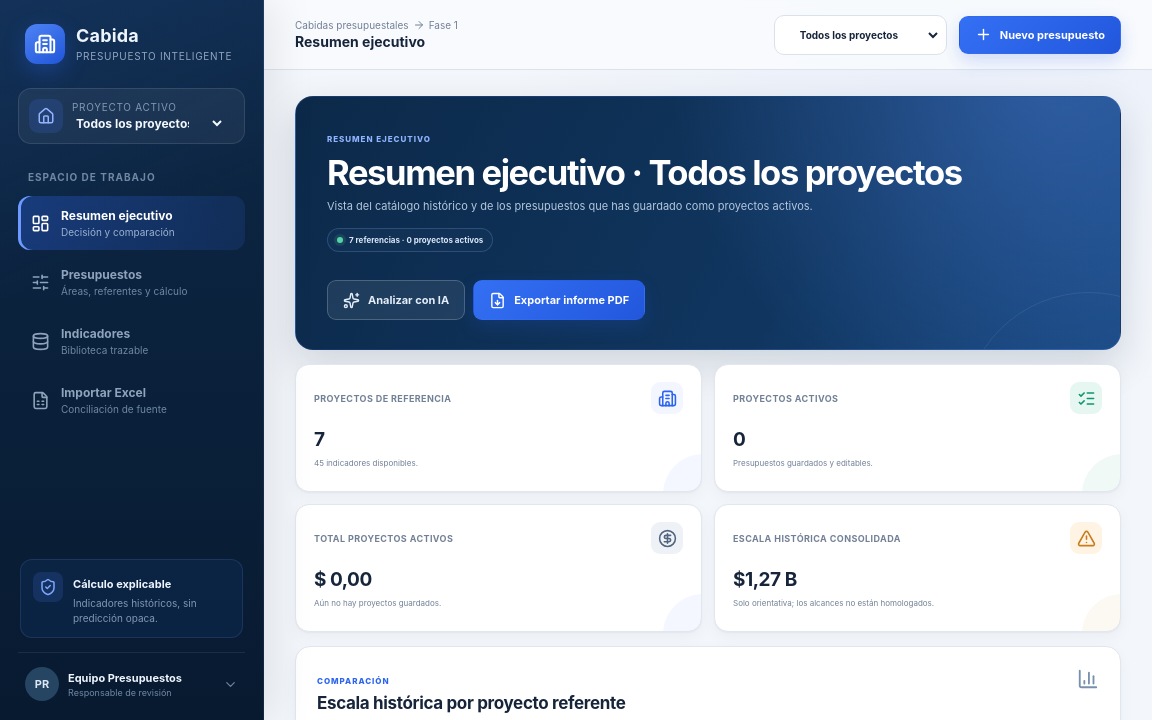
Scenario: App › mantiene independiente el primer presupuesto al crear una segunda pestaña
Expected: the header with class "topbar" is shown, [264, 0, 1152, 70]
Click the button "Nuevo presupuesto".
click(1040, 34)  # box [959, 16, 1121, 54]
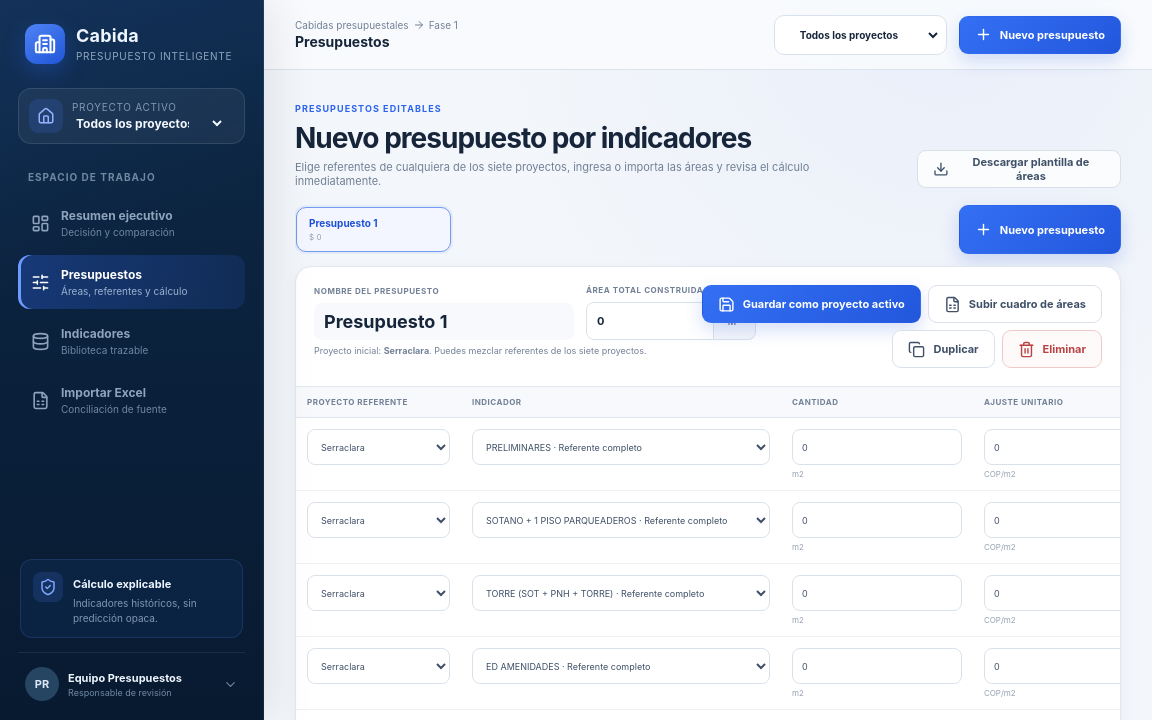
Replace the text in the field labelled "Nombre del presupuesto" with "Torre Norte" at (444, 322), box [314, 303, 574, 340]
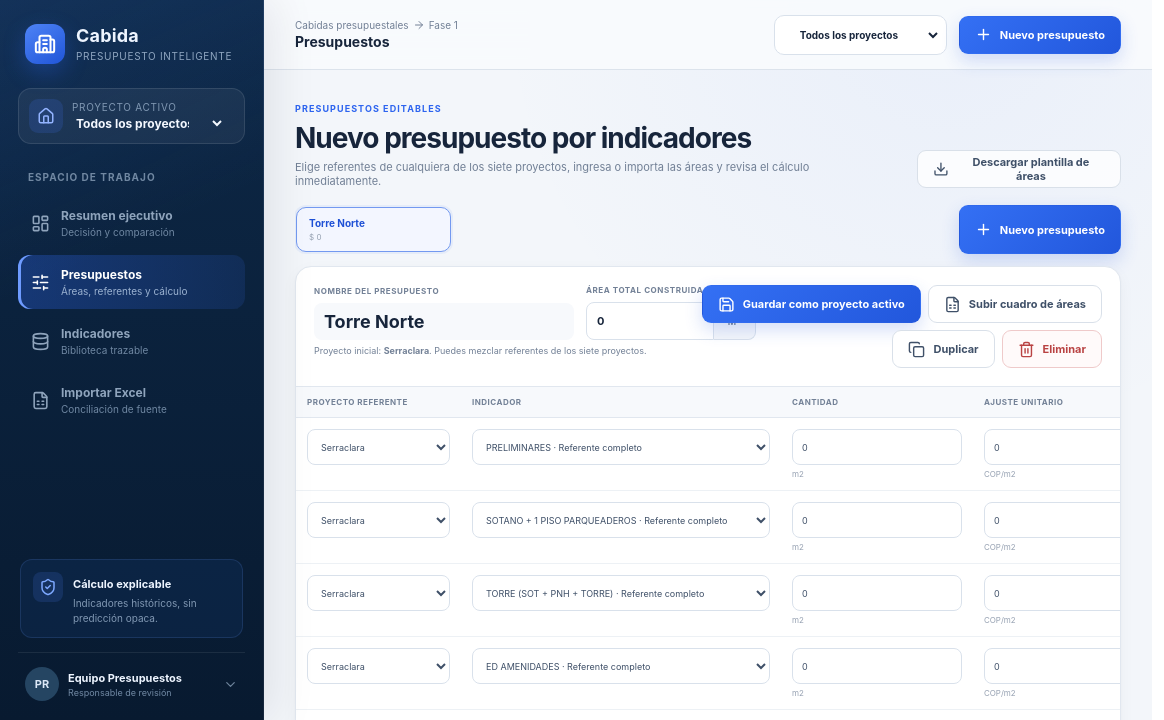
Replace the text in the number field named "Cantidad de la línea 1" with "25" at (877, 447), box [792, 429, 962, 465]
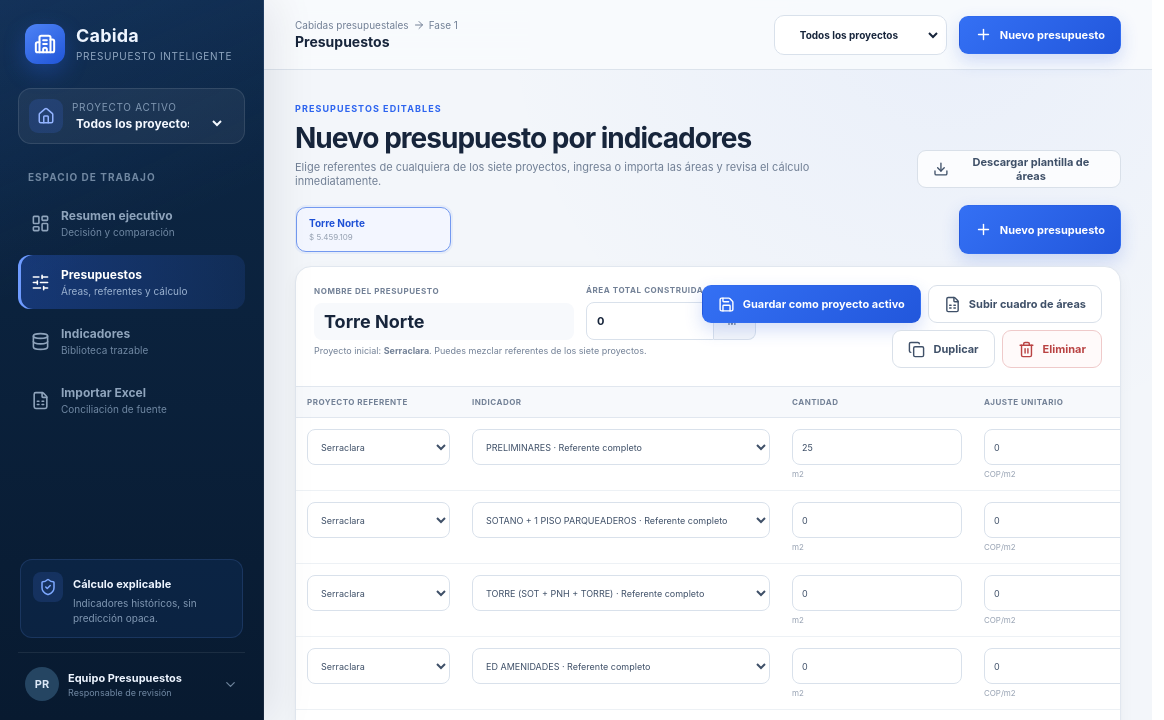
Click the button "Nuevo presupuesto" below "Nuevo presupuesto por indicadores".
click(1040, 230)  # box [959, 205, 1121, 254]
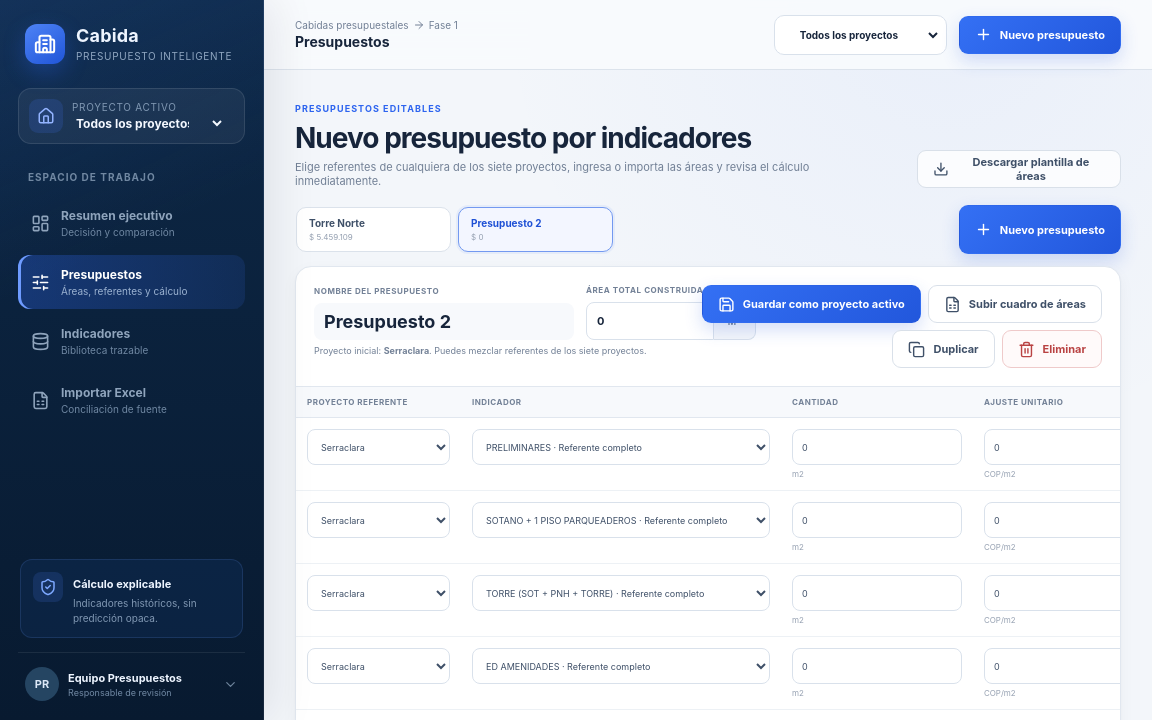
Expected: the number of tabs is 2
Click the tab "Torre Norte $ 5.459.109".
click(374, 230)  # box [296, 207, 451, 252]
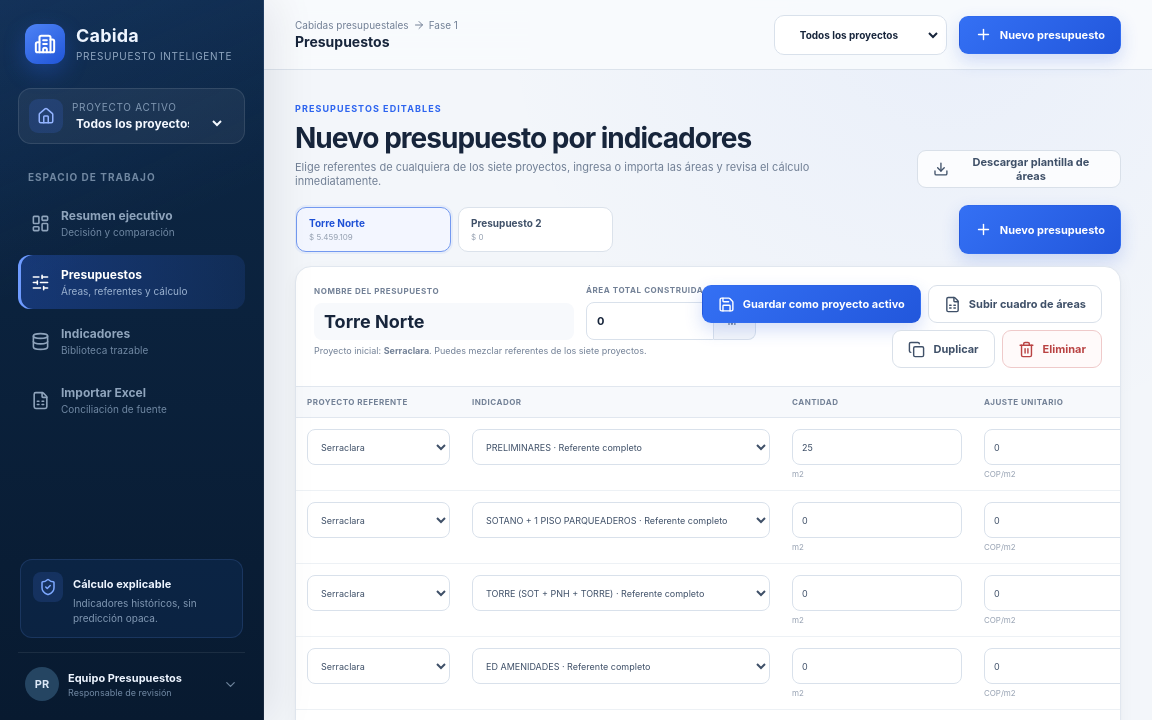
Expected: the number field named "Cantidad de la línea 1" holds "25", [792, 429, 962, 465]
